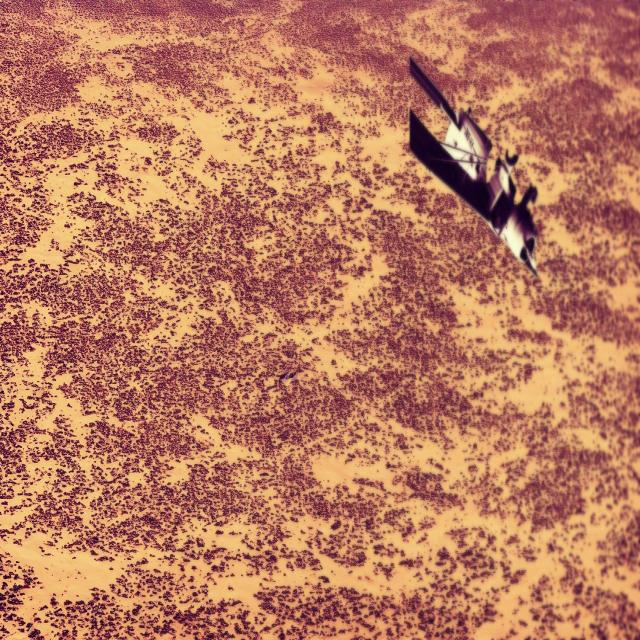airplane: (408, 55, 539, 279)
